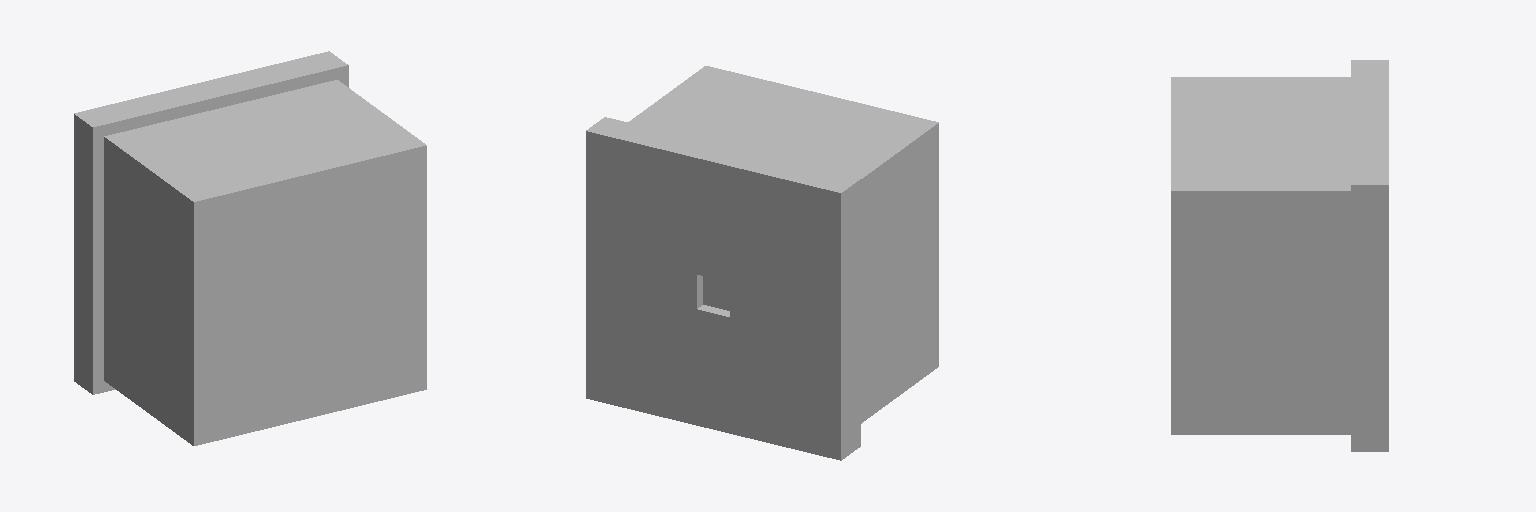
File: poweredPistonExtender.obj
The picture shows the model from 3 angles: view 1: azimuth 30°, elevation 25°; view 2: azimuth 150°, elevation 25°; view 3: azimuth 270°, elevation 25°; orthographic projection.
Bounding box in the file's own units: 0.92 × 0.92 × 0.68.